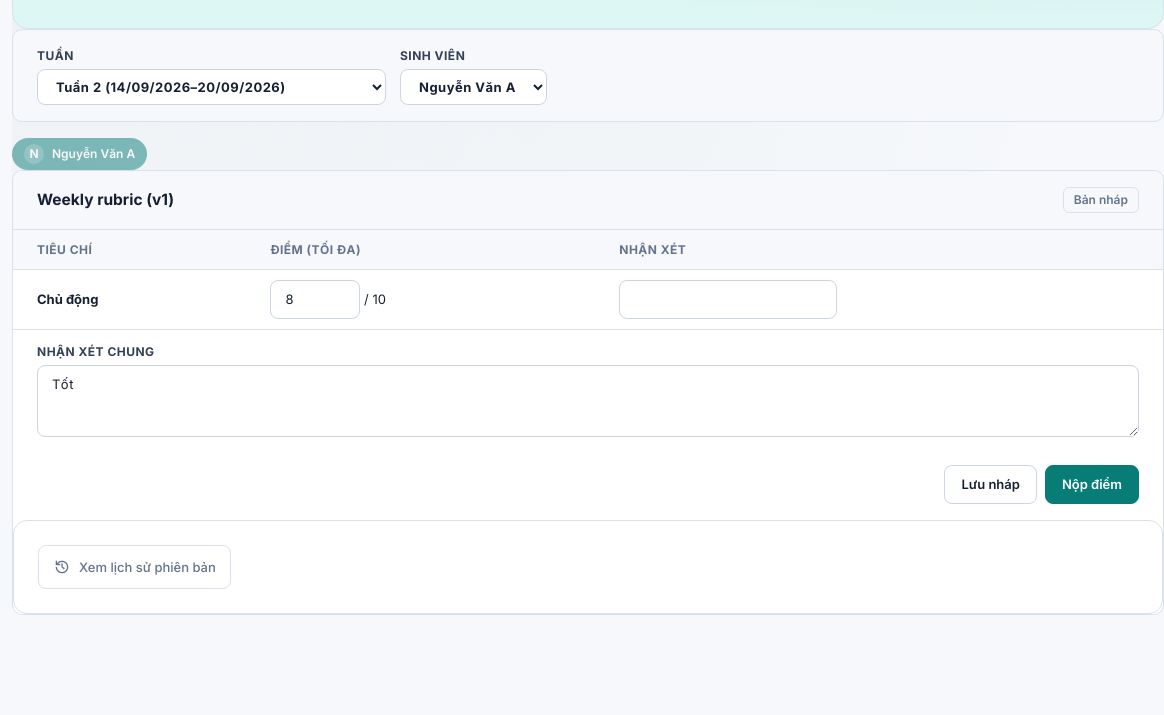
Test: Weekly assessments page › submits using the assessment id and its concurrency token
(page scrolled)
Expected: the number field showing "8" is shown, [270, 280, 360, 319]
Click the button "Nộp điểm".
click(1092, 485)  # box [1045, 465, 1139, 504]
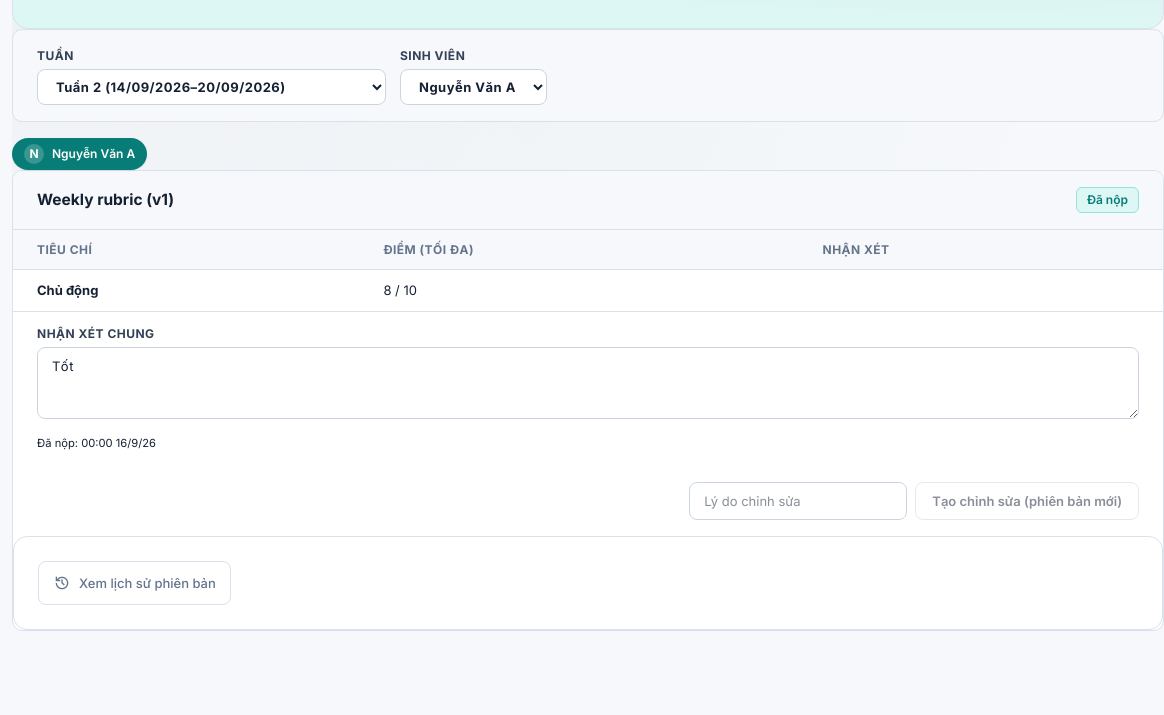
Result: the text "Đã nộp" is shown at [1076, 188, 1139, 213]
